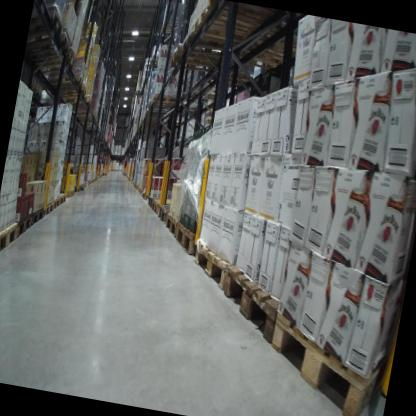pallet: (255, 306, 387, 416), (215, 248, 303, 349), (187, 224, 248, 300), (187, 0, 265, 50), (178, 23, 256, 67), (240, 27, 301, 76), (26, 2, 68, 56), (27, 25, 72, 74), (168, 41, 229, 77), (34, 40, 79, 82), (203, 65, 256, 93), (171, 220, 201, 261), (51, 67, 87, 94), (0, 216, 20, 261), (184, 85, 224, 107), (150, 89, 188, 112), (12, 207, 36, 243), (58, 88, 93, 112), (54, 81, 88, 105), (156, 199, 179, 228), (161, 212, 179, 243), (28, 202, 46, 229), (53, 185, 74, 203), (151, 195, 169, 215), (41, 197, 55, 221), (51, 191, 66, 209), (66, 181, 83, 194), (50, 196, 61, 211), (146, 193, 154, 208), (78, 182, 87, 192), (142, 189, 147, 199)
pallet_truck: (120, 150, 132, 178)
